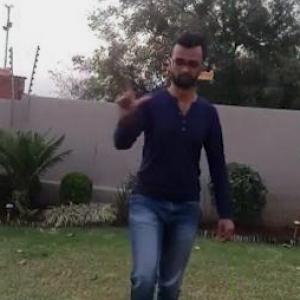land_hand: (111, 78, 151, 119)
